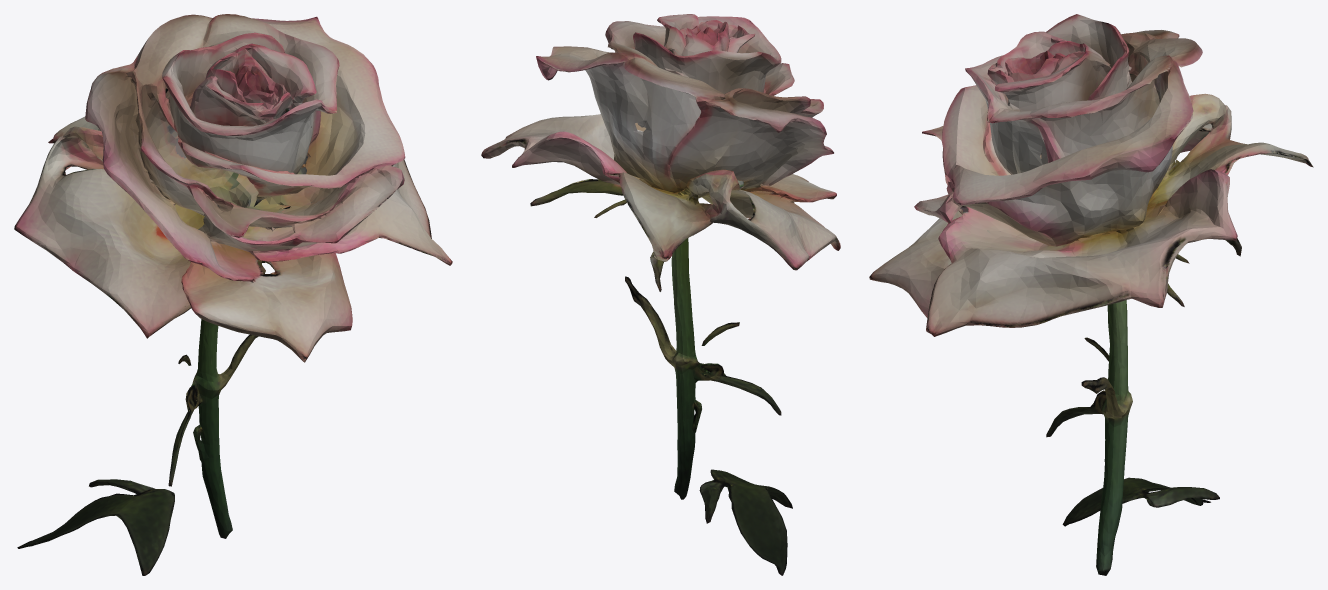
The picture shows the model from 3 angles, left to right: view 1: azimuth 30°, elevation 25°; view 2: azimuth 150°, elevation 25°; view 3: azimuth 270°, elevation 25°; orthographic projection. The views are drawn at different scales.
Parts seen in each view (by area): view 1: world; view 2: world; view 3: world.
Boxes of the visible parts, x1,y1,x2,y2 form: world: (14, 14, 452, 575); world: (481, 14, 840, 575); world: (869, 14, 1313, 575).
Size of the model in its own units: 0.6972 by 0.9463 by 0.7027.
1 material, 1 textured.
